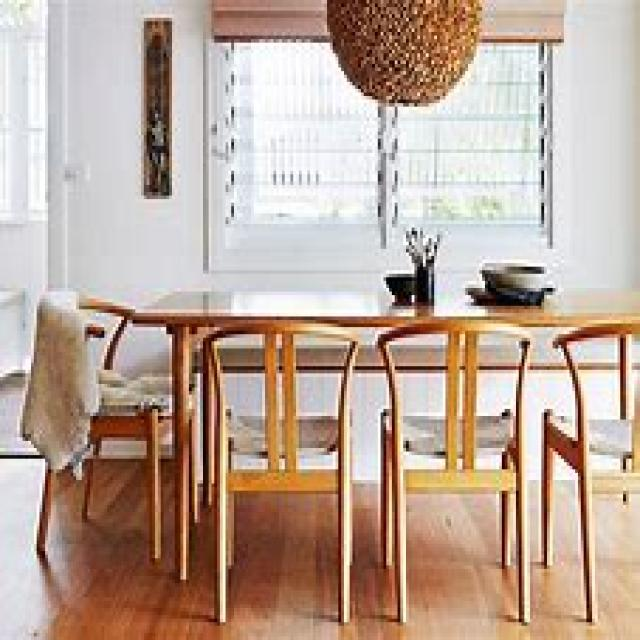chair: (200, 320, 358, 622), (375, 316, 530, 622), (31, 288, 197, 565), (539, 320, 637, 622)
table: (76, 285, 637, 615)
